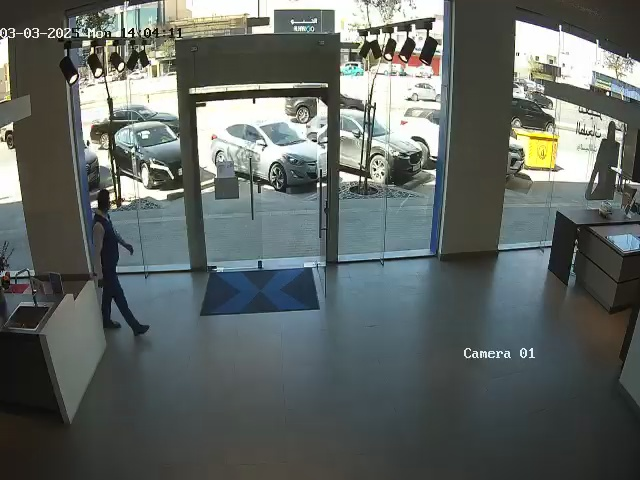employee: (91, 189, 150, 336)
